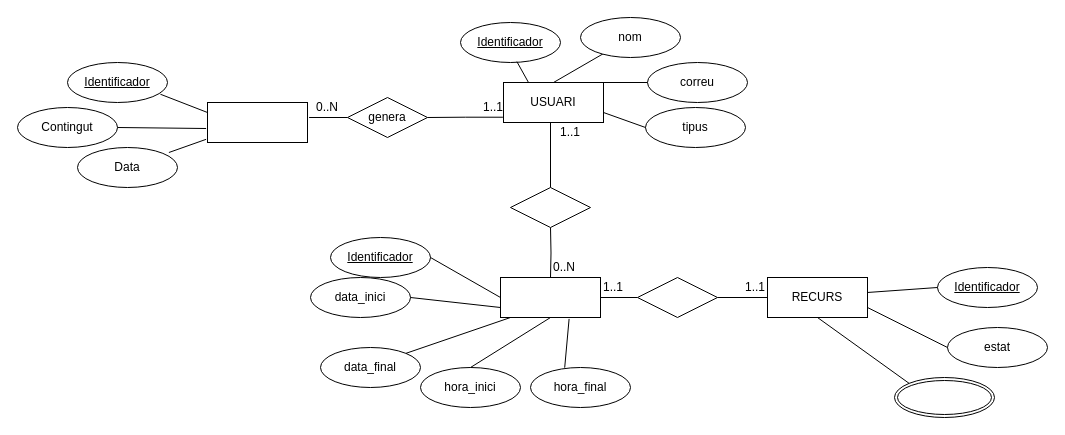
This 1065x435 diagram has some shape labels left out. Here are the shapes that lost their labels. From the top down, the centre of each, then its label:
the point at 257,122: NOTIFICACIÓ
the point at 550,207: gestiona
the point at 550,297: RESERVA
the point at 677,297: inclou
the point at 944,397: Propietats
